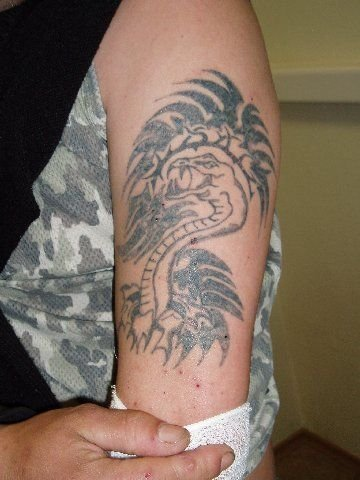tatu7_zmeya: (127, 128, 258, 331)
